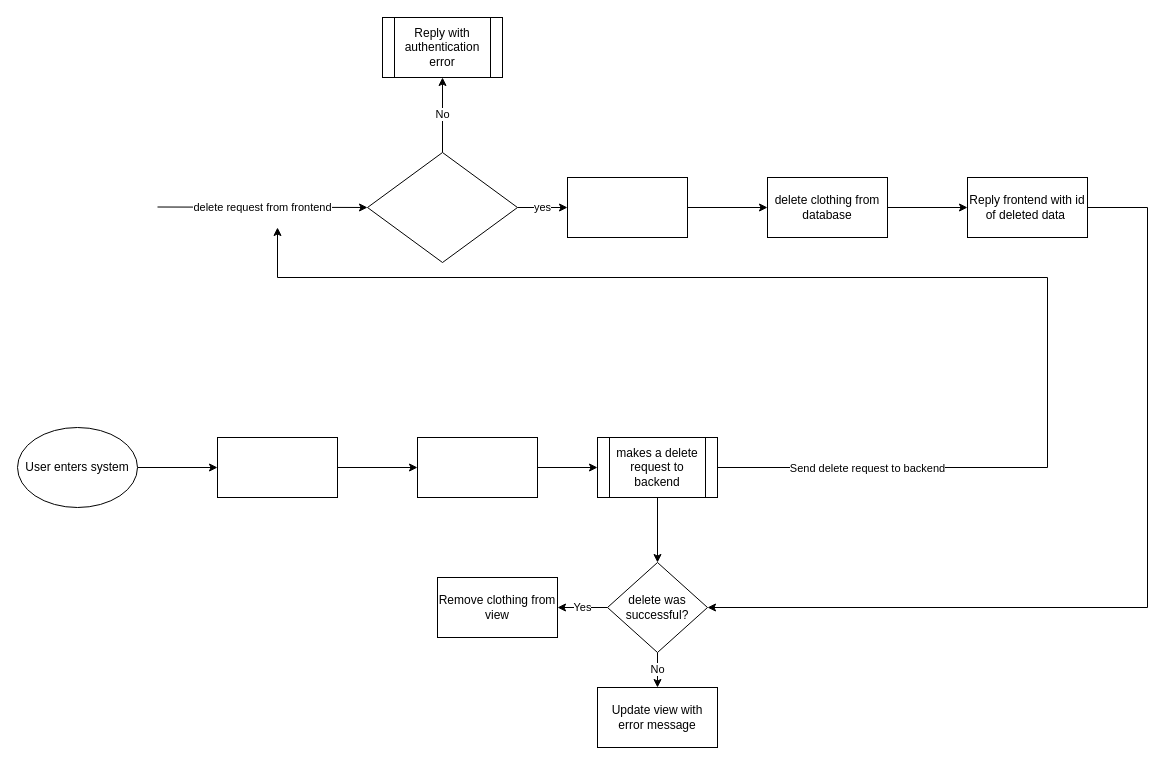
Some shapes in this 1173 by 773 pixel diagram are drawn without their labels. Here are the shapes that lost their labels. From the top down, the box of each, then its label:
(366, 152, 518, 262): user has permission to make request ?
(566, 176, 688, 238): Retrieve Clothing from database
(216, 436, 338, 498): Search for clothing: clothing must be available
(416, 436, 538, 498): Clicks to delete clothing
